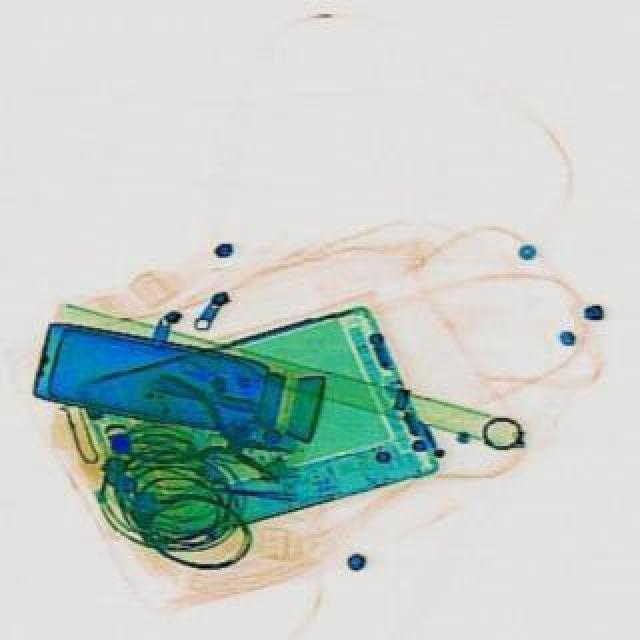wrench: (112, 368, 302, 508)
